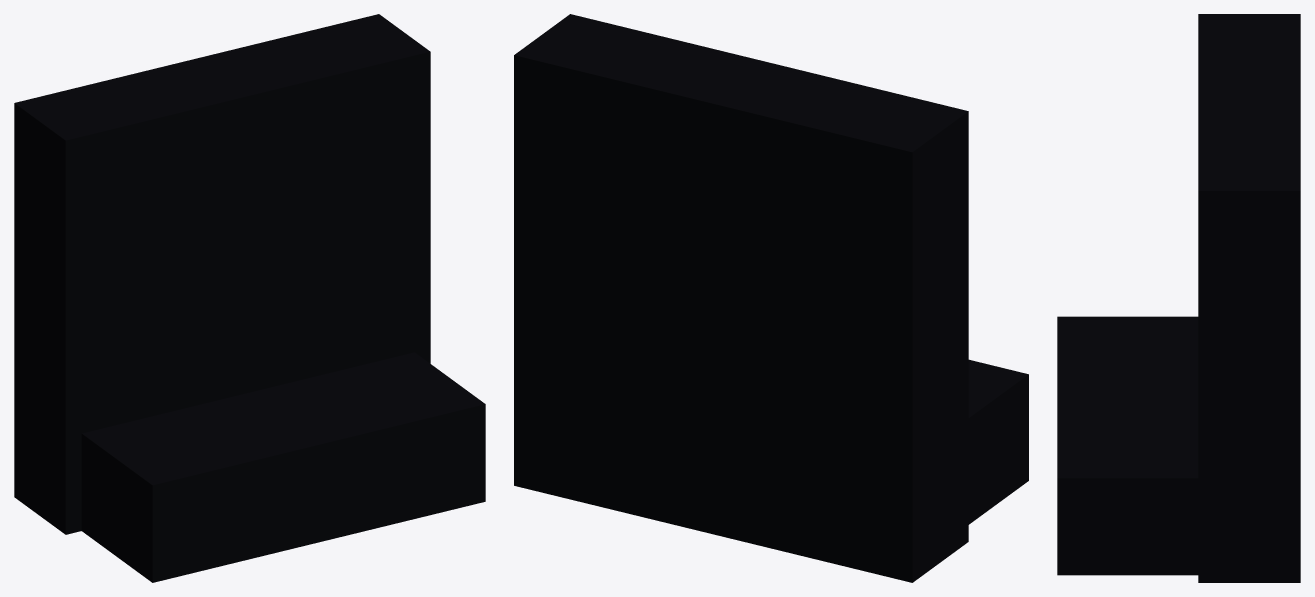
The model's file is COL_CustomizeKiosk_Body.glb.
The picture shows the model from 3 angles, left to right: view 1: azimuth 30°, elevation 25°; view 2: azimuth 150°, elevation 25°; view 3: azimuth 270°, elevation 25°; orthographic projection. The views are drawn at different scales.
Visible parts, largest first — view 1: COL_CustomizeKiosk_RearFrame, COL_CustomizeKiosk_PedestalPlinth; view 2: COL_CustomizeKiosk_RearFrame, COL_CustomizeKiosk_PedestalPlinth; view 3: COL_CustomizeKiosk_RearFrame, COL_CustomizeKiosk_PedestalPlinth.
Boxes of the visible parts, <box> form: COL_CustomizeKiosk_RearFrame: <box>14,14,430,534</box>; COL_CustomizeKiosk_PedestalPlinth: <box>81,352,485,582</box>; COL_CustomizeKiosk_RearFrame: <box>514,14,968,582</box>; COL_CustomizeKiosk_PedestalPlinth: <box>968,359,1028,524</box>; COL_CustomizeKiosk_RearFrame: <box>1198,14,1300,582</box>; COL_CustomizeKiosk_PedestalPlinth: <box>1057,316,1198,575</box>.
Bounding box in the file's own units: 9.2 × 9.5 × 5.35.
Materials: 1 (1 with a texture image).
